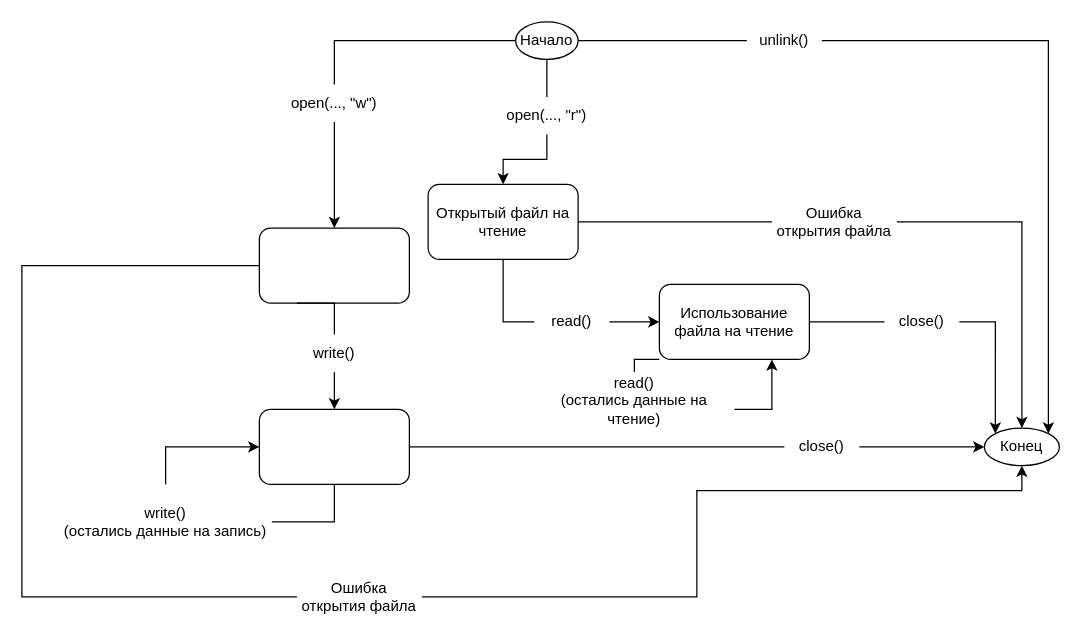
The diagram is 1081 pixels wide and 638 high, and some of its shapes have lost their labels. The centre of each missing label's shape, as x and y in pixels:
"Использование файла на запись" goes at (333,446).
"Открытый/новосозданный файл на запись" goes at (333,265).
